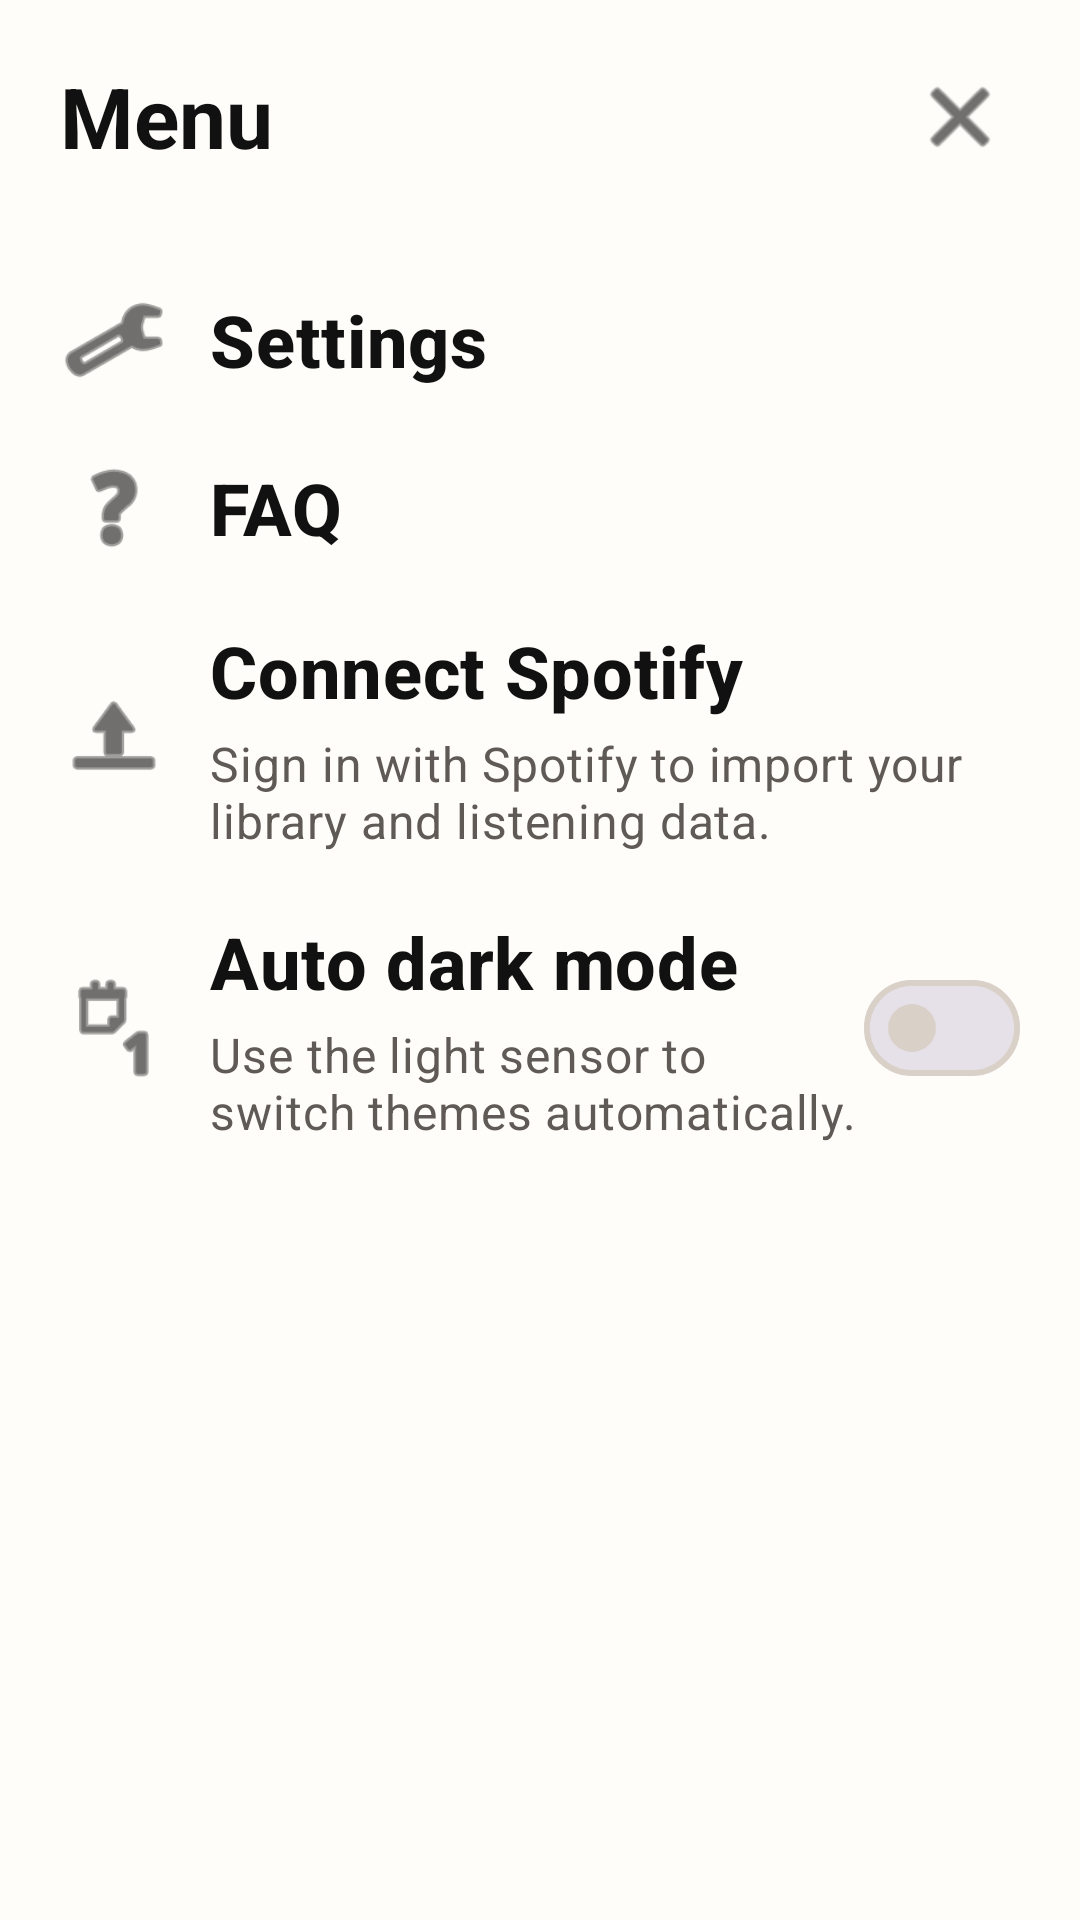

Icons on this 1080px×1920px Android screen, each with its box as (x1, y1, x2, y2):
Close settings: (930, 87, 990, 147)
Import songs: (72, 701, 156, 770)
